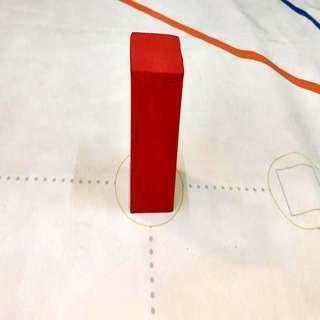redbox: (130, 32, 184, 213)
